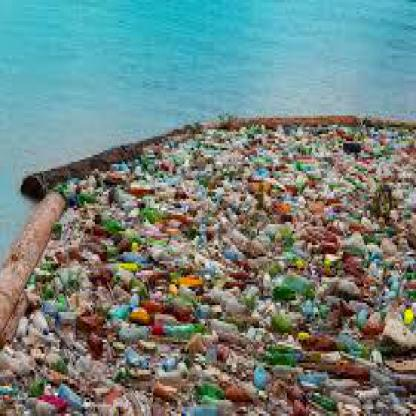Plastic: (53, 378, 91, 408), (265, 277, 313, 299), (152, 322, 197, 340), (256, 349, 301, 366)
